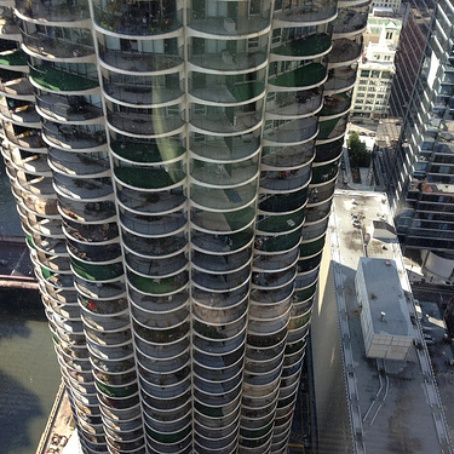building: (1, 1, 306, 446), (399, 1, 454, 231), (363, 10, 399, 117)
